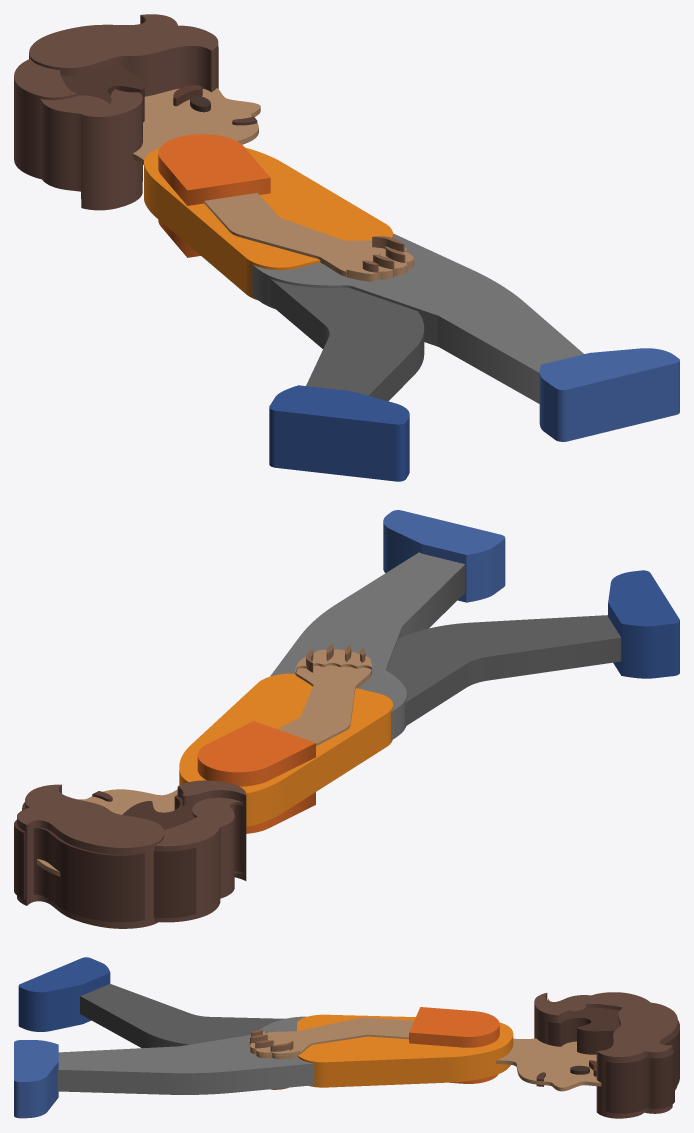
The model's file is emoji_u1f6b6_1f3fd_200d_27a1.glb.
The picture shows the model from 3 angles, top to bottom: view 1: azimuth 30°, elevation 25°; view 2: azimuth 150°, elevation 25°; view 3: azimuth 270°, elevation 25°; orthographic projection. The views are drawn at different scales.
Parts seen in each view (by area): view 1: emoji_u1f6b6_1f3fd_200d_27a1; view 2: emoji_u1f6b6_1f3fd_200d_27a1; view 3: emoji_u1f6b6_1f3fd_200d_27a1.
Part boxes in pixels (box(x1,y1,x2,y2)): emoji_u1f6b6_1f3fd_200d_27a1: box(14, 14, 679, 481); emoji_u1f6b6_1f3fd_200d_27a1: box(14, 510, 679, 928); emoji_u1f6b6_1f3fd_200d_27a1: box(14, 957, 679, 1118).
Bounding box in the file's own units: 0.0145 × 0.0036 × 0.0333.
